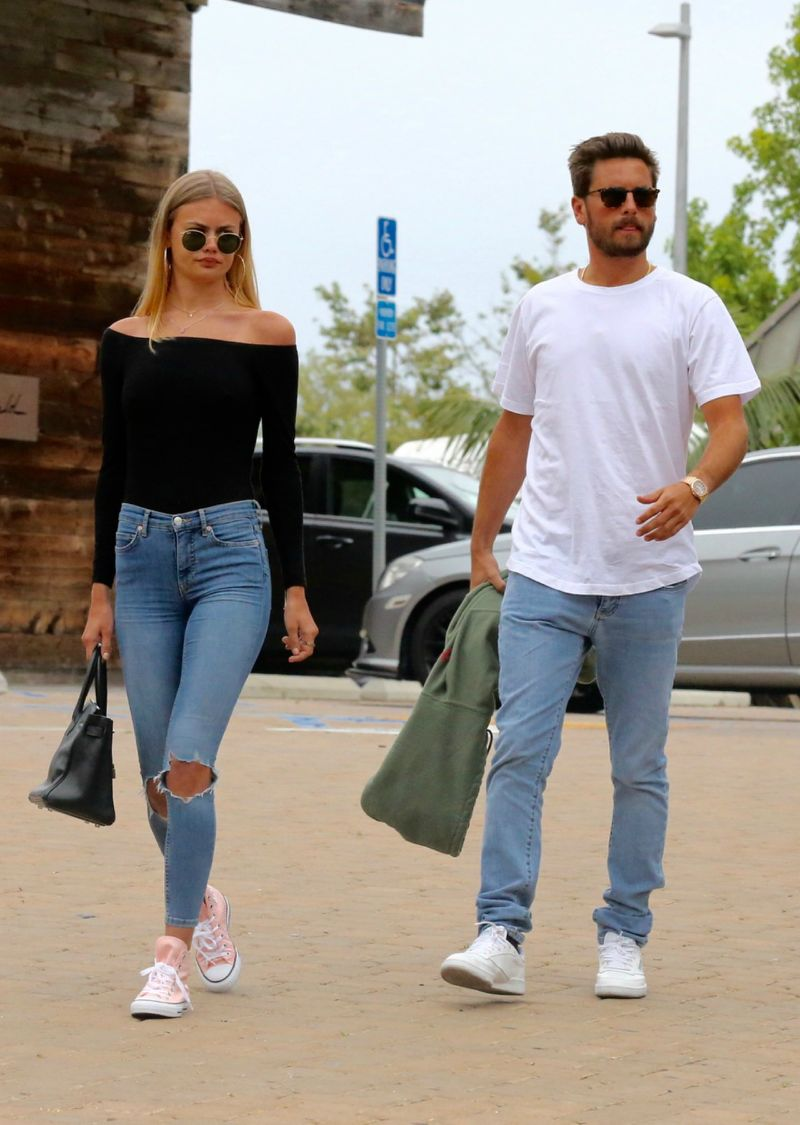Person: (443, 131, 762, 1001), (85, 172, 319, 1011)
